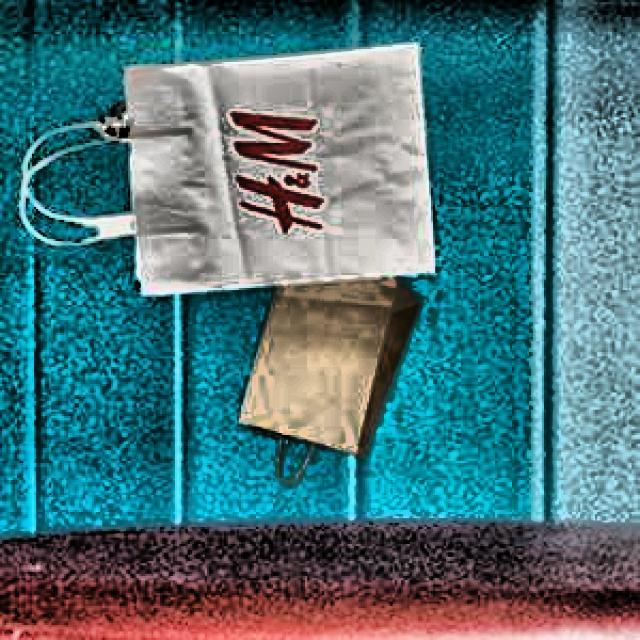Paper-bag: (18, 38, 464, 306)
